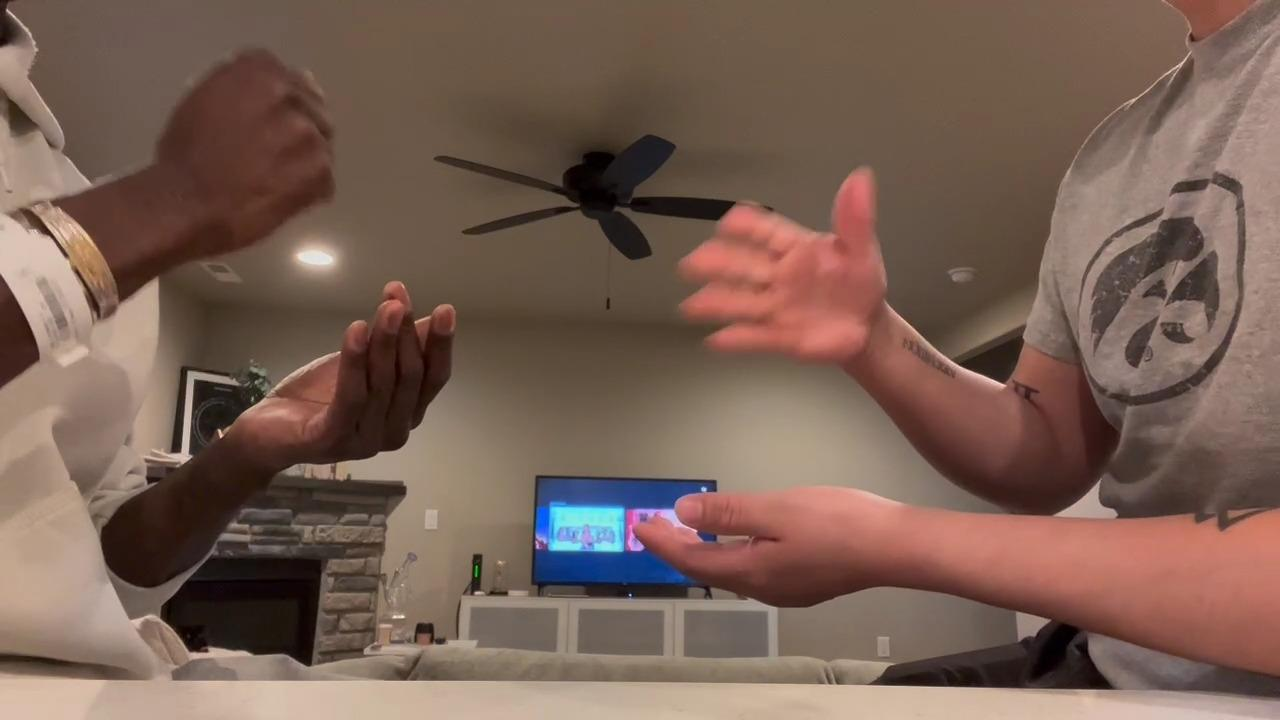Paper: (682, 162, 893, 372)
Rock: (152, 43, 336, 254)
